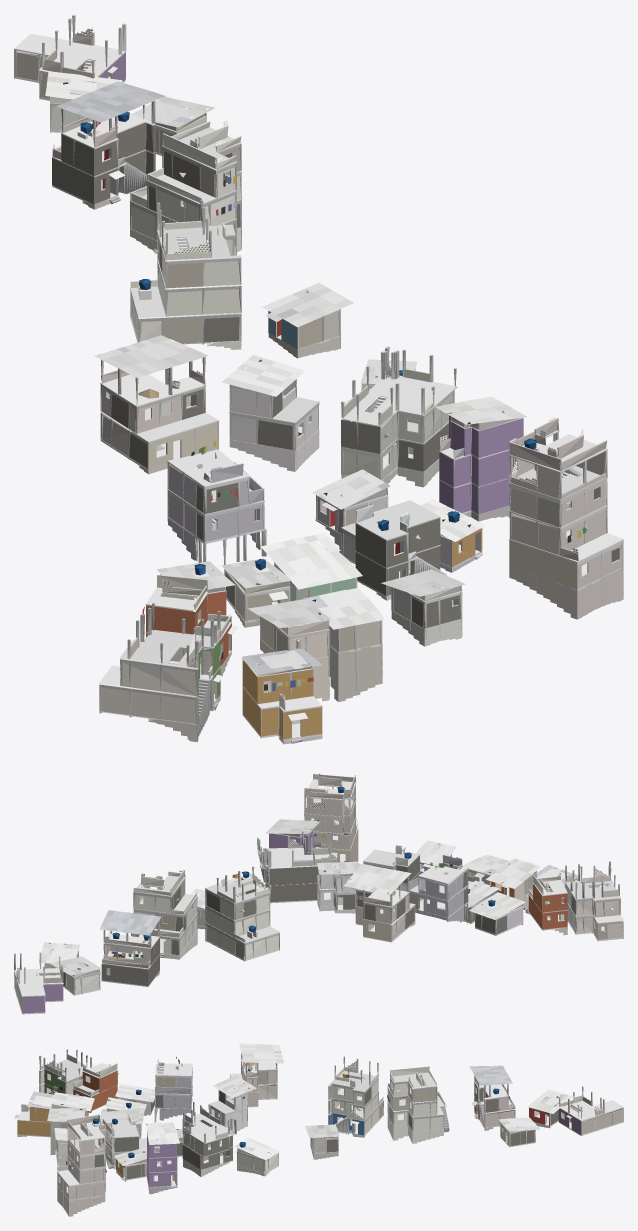
3 views of the same model, one above another, from view 1: azimuth 30°, elevation 25°; view 2: azimuth 150°, elevation 25°; view 3: azimuth 270°, elevation 25° (orthographic). The views are drawn at different scales.
Parts seen in each view (by area): view 1: T_23_25; view 2: T_23_25; view 3: T_23_25.
Part boxes in pixels (x1,y1,x2,y2): T_23_25: (14,14,623,744); T_23_25: (14,773,623,1014); T_23_25: (14,1043,623,1216).
Size of the model in its own units: 56.83 by 26.51 by 109.
